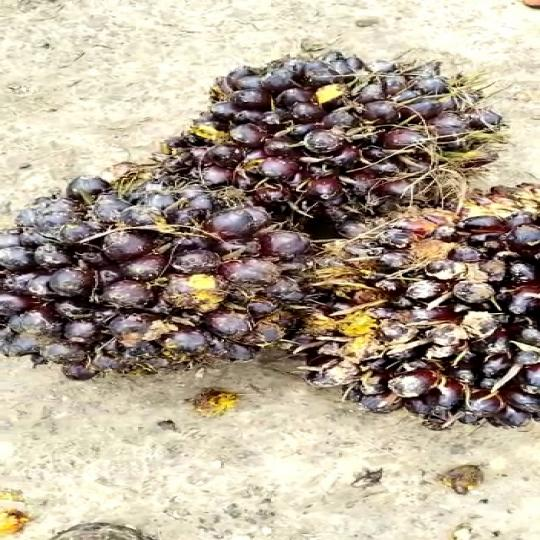mentah: (247, 183, 540, 435), (1, 161, 311, 387), (151, 45, 506, 242)
